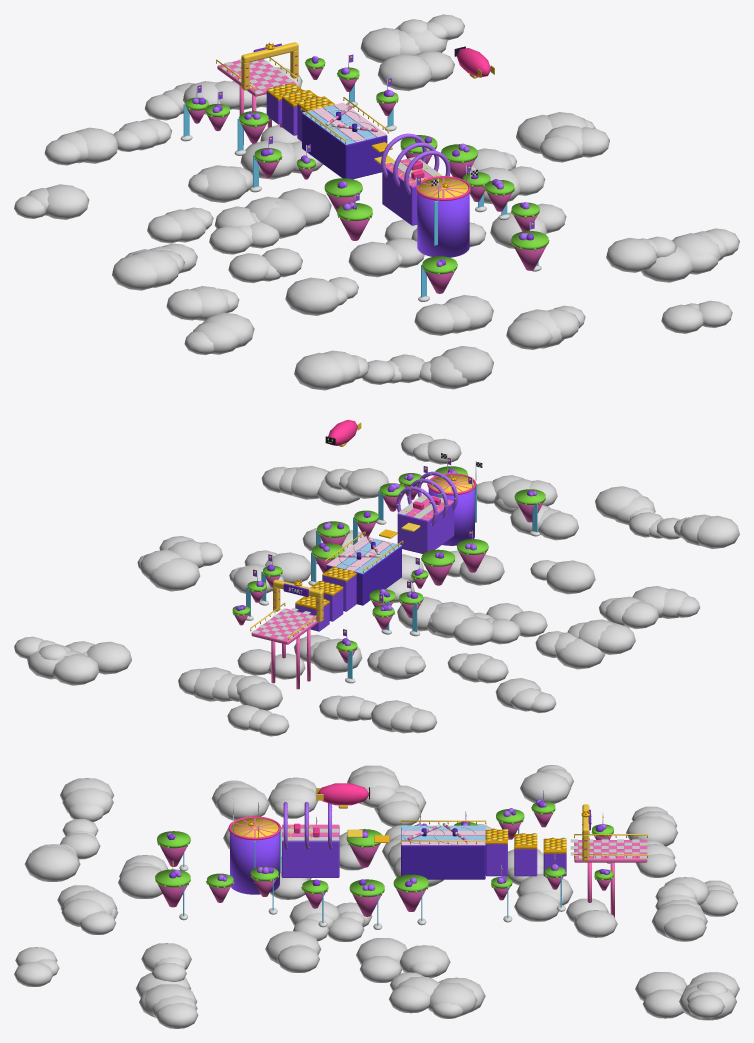
File: couronne.glb
3 views of the same model, one above another, from view 1: azimuth 30°, elevation 25°; view 2: azimuth 150°, elevation 25°; view 3: azimuth 270°, elevation 25° (orthographic). The views are drawn at different scales.
Visible parts, largest first — view 1: ENV_tower, ENV_big_col, CLD0_0, CLD32_0, CLD23_0, CLD17_0, CLD3_0, CLD12_1, CLD16_2, CLD14_2, ENV_ring_col, CLD10_0 (+43 smaller); view 2: ENV_ring_col, ENV_big_col, CLD0_0, CLD5_0, CLD33_0, CLD23_0, ENV_tower, CLD32_0, CLD19_0, CLD9_0, ENV_start_base, CLD3_0 (+41 smaller); view 3: ENV_big_col, ENV_tower, ENV_ring_col, CLD16_2, CLD28_2, CLD14_2, CLD35_2, CLD20_2, CLD19_2, ENV_start_base, CLD5_1, CLD37_1 (+52 smaller).
Boxes of the visible parts, x1,y1,x2,y2 form: ENV_tower: [417, 193, 469, 257]; ENV_big_col: [302, 115, 387, 179]; CLD0_0: [285, 277, 339, 315]; CLD32_0: [378, 54, 431, 91]; CLD23_0: [294, 352, 344, 390]; CLD17_0: [348, 241, 399, 277]; CLD3_0: [606, 237, 657, 272]; CLD12_1: [197, 165, 247, 202]; CLD16_2: [441, 346, 493, 384]; CLD14_2: [46, 184, 89, 219]; ENV_ring_col: [382, 170, 417, 225]; CLD10_0: [112, 254, 157, 290]; ENV_ring_col: [397, 505, 454, 553]; ENV_big_col: [326, 547, 401, 605]; CLD0_0: [546, 560, 595, 594]; CLD5_0: [149, 557, 200, 591]; CLD33_0: [53, 653, 99, 685]; CLD23_0: [697, 515, 739, 549]; ENV_tower: [428, 488, 474, 545]; CLD32_0: [86, 641, 131, 674]; CLD19_0: [312, 638, 362, 673]; CLD9_0: [556, 638, 605, 669]; ENV_start_base: [251, 608, 318, 644]; CLD3_0: [345, 468, 389, 498]; ENV_big_col: [401, 846, 485, 879]; ENV_tower: [230, 833, 279, 894]; ENV_ring_col: [281, 842, 339, 877]; CLD16_2: [24, 846, 80, 881]; CLD28_2: [216, 787, 269, 820]; CLD14_2: [520, 772, 571, 803]; CLD35_2: [118, 866, 162, 898]; CLD20_2: [626, 816, 677, 846]; CLD19_2: [514, 892, 559, 921]; ENV_start_base: [574, 840, 647, 862]; CLD5_1: [428, 983, 477, 1016]; CLD37_1: [400, 945, 450, 978].
Bounding box in the file's own units: 151 × 50.4 × 189.
